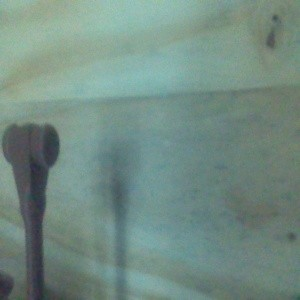palu: (1, 122, 61, 300)
